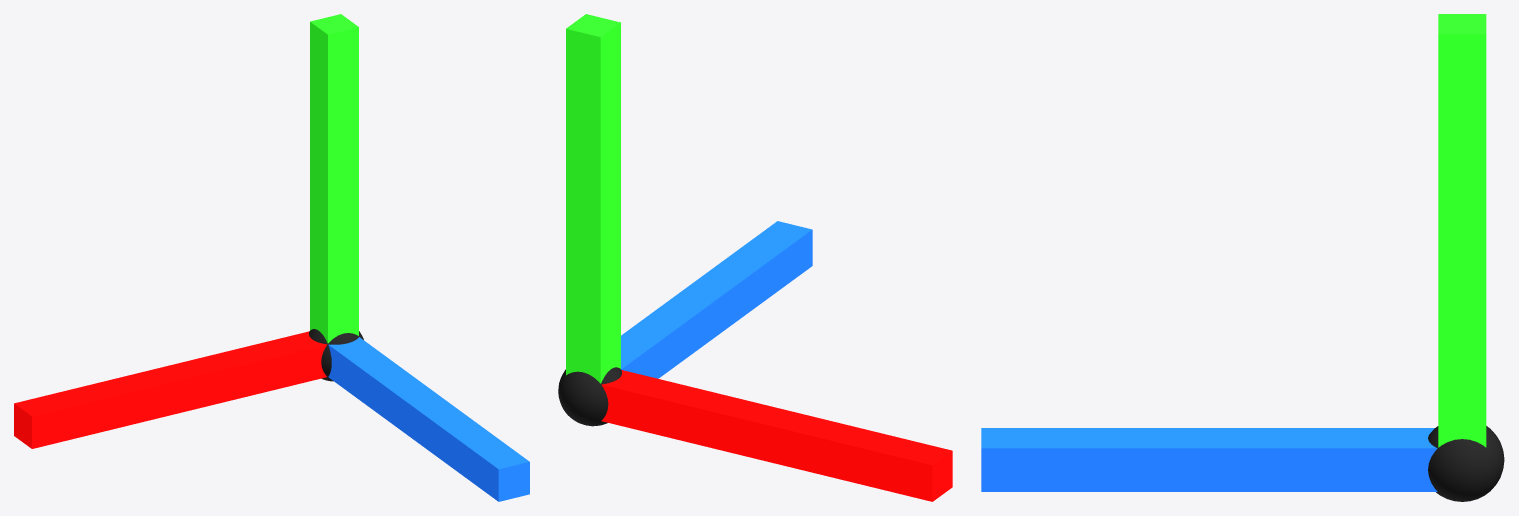
Rendered from Gizmo.glb.
3 renders of one model, left to right at view 1: azimuth 30°, elevation 25°; view 2: azimuth 150°, elevation 25°; view 3: azimuth 270°, elevation 25°, orthographic. The views are drawn at different scales.
Visible parts, largest first — view 1: axis-y, axis-x, axis-z, Origin; view 2: axis-y, axis-x, axis-z, Origin; view 3: axis-z, axis-y, Origin.
Boxes of the visible parts, x1,y1,x2,y2 form: axis-y: (310, 14, 358, 343); axis-x: (14, 331, 327, 448); axis-z: (328, 337, 529, 501); Origin: (309, 329, 363, 381); axis-y: (566, 14, 620, 383); axis-x: (601, 370, 952, 501); axis-z: (621, 221, 812, 378); Origin: (558, 367, 621, 426); axis-z: (981, 428, 1437, 491); axis-y: (1438, 14, 1486, 447); Origin: (1428, 426, 1504, 501).
Size of the model in its own units: 0.435 by 0.435 by 0.435.
